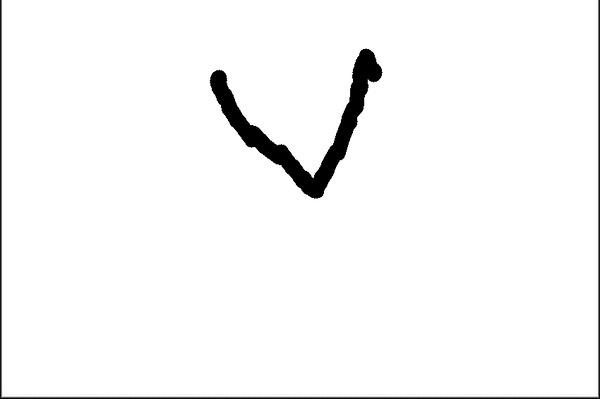V: (196, 45, 391, 201)
